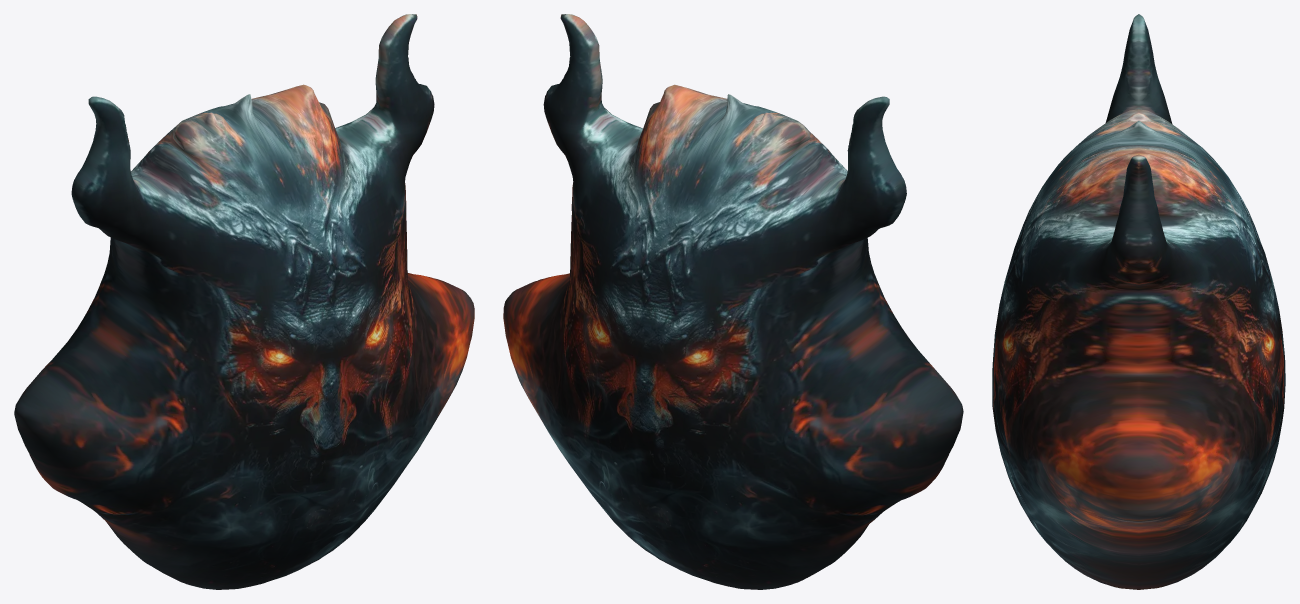
File: diablo.glb
The picture shows the model from 3 angles, left to right: view 1: azimuth 30°, elevation 25°; view 2: azimuth 150°, elevation 25°; view 3: azimuth 270°, elevation 25°; orthographic projection. The views are drawn at different scales.
Bounding box in the file's own units: 6.77 × 7.45 × 3.98.
1 material, 1 textured.
